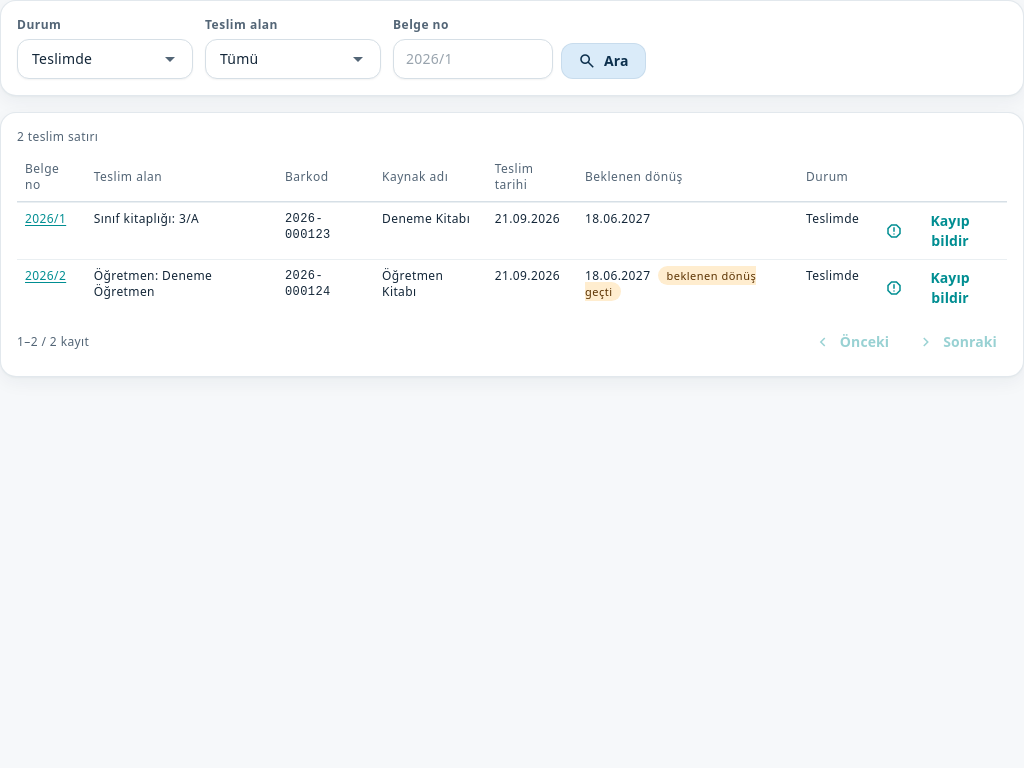
Test: TeslimKayitlari › açık teslimde kayıp bildirimi dosya penceresini açar; liste tazelenir
Click the button with aria-label "2026-000123 için kayıp bildir": click(937, 231) [875,211,999,251]
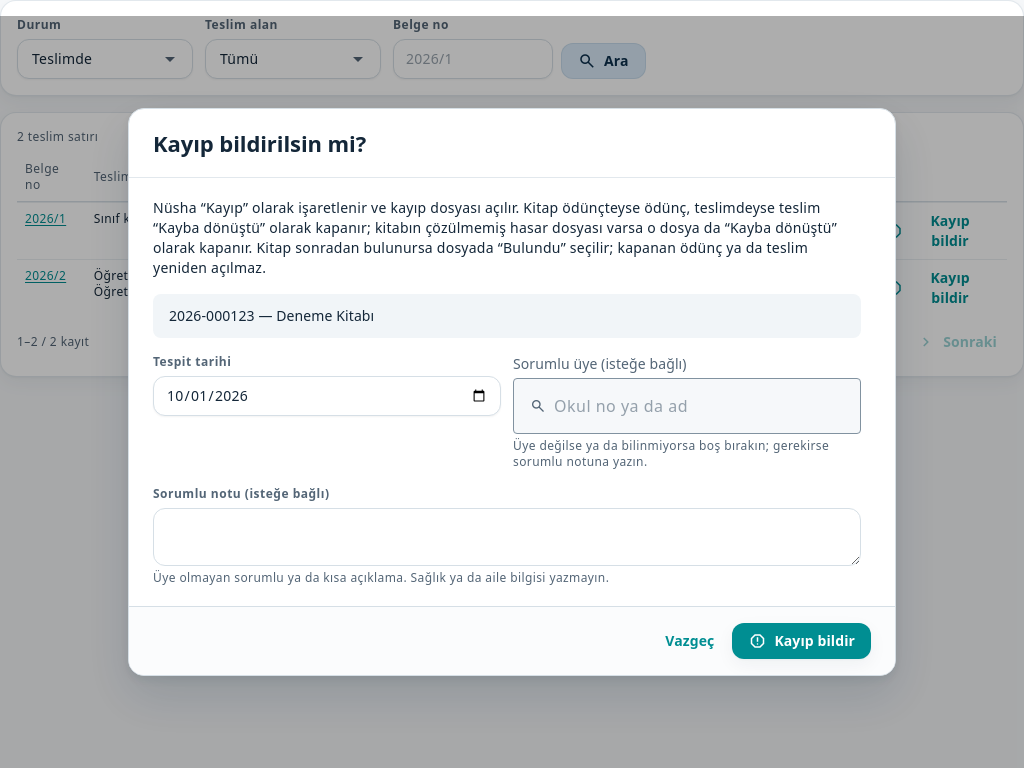
Click the button "Kayıp bildir": click(802, 641) [732,623,871,659]
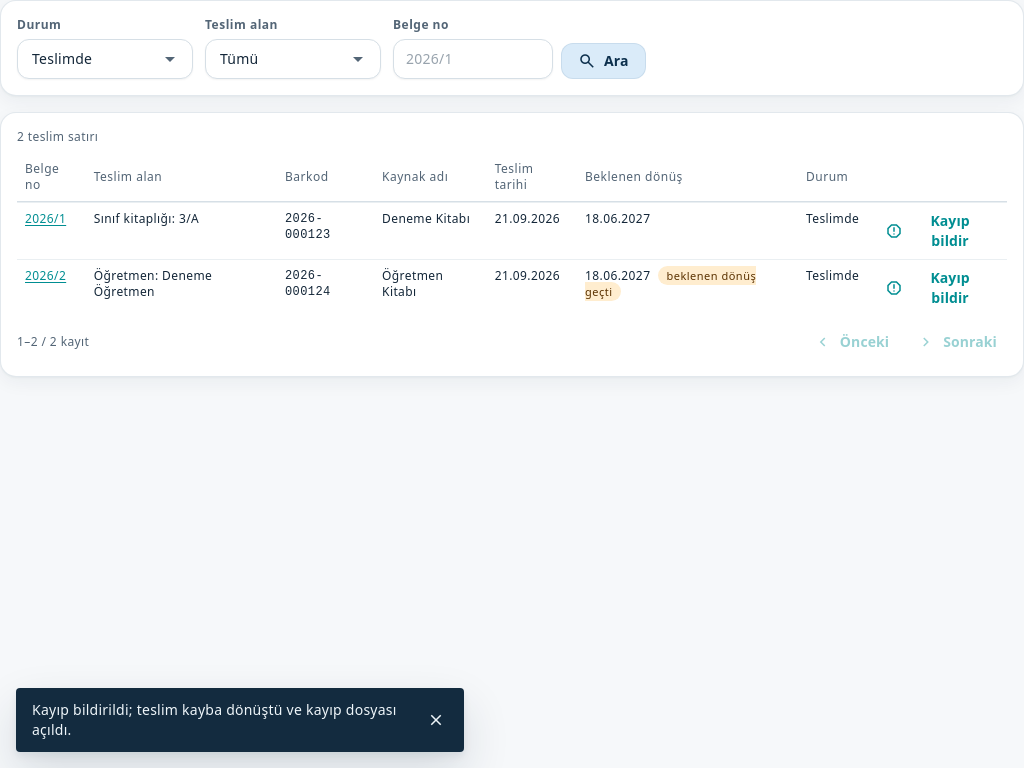
Expected: the text "Kayıp bildirildi; teslim kayba dönüştü ve kayıp dosyası açıldı." is shown, [32,688,408,752]
